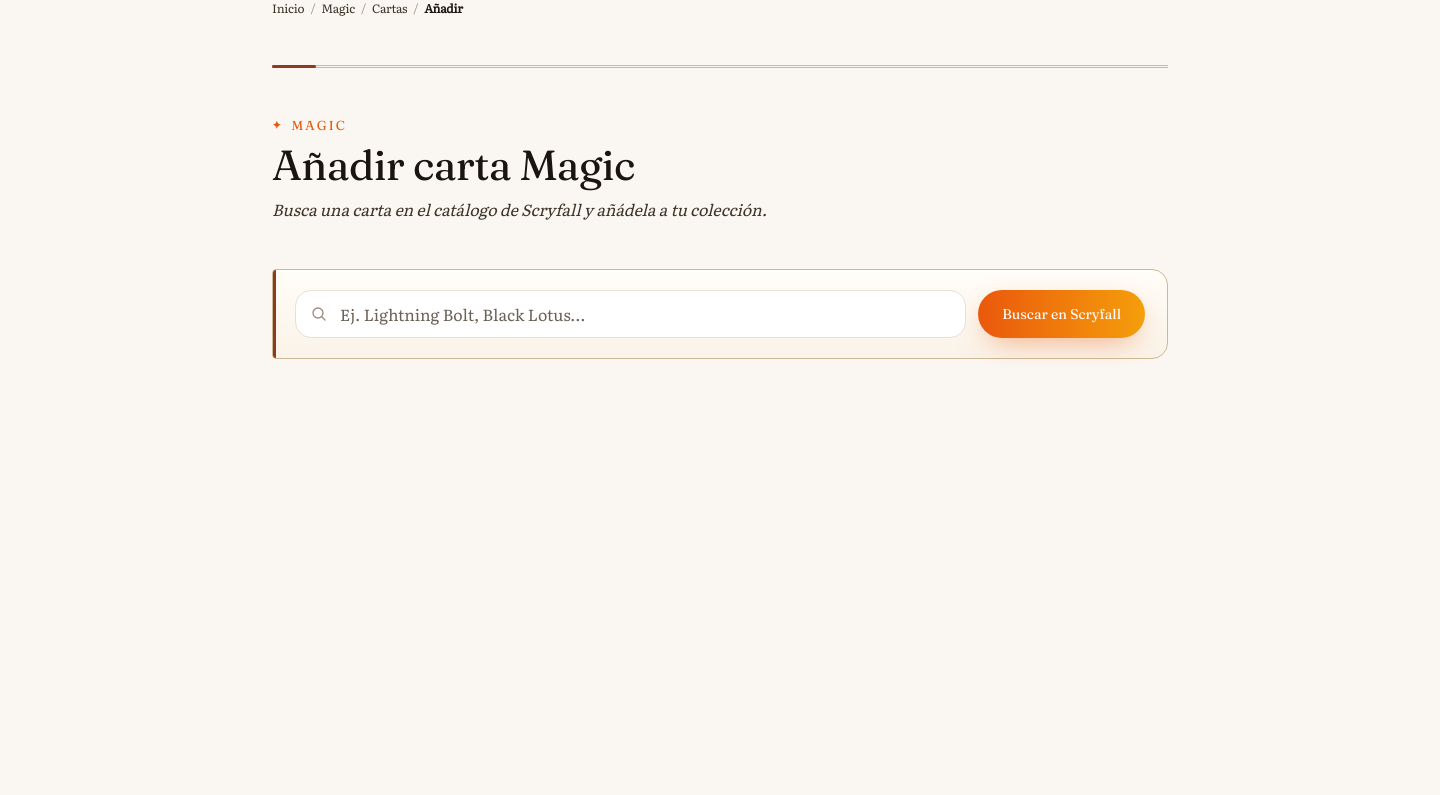
MagicCreatePage selector de impresiones › el botón «Elegir impresión» también abre el panel
Type "Plains" into the field named "Buscar carta" at (631, 314), box [295,290,966,338]
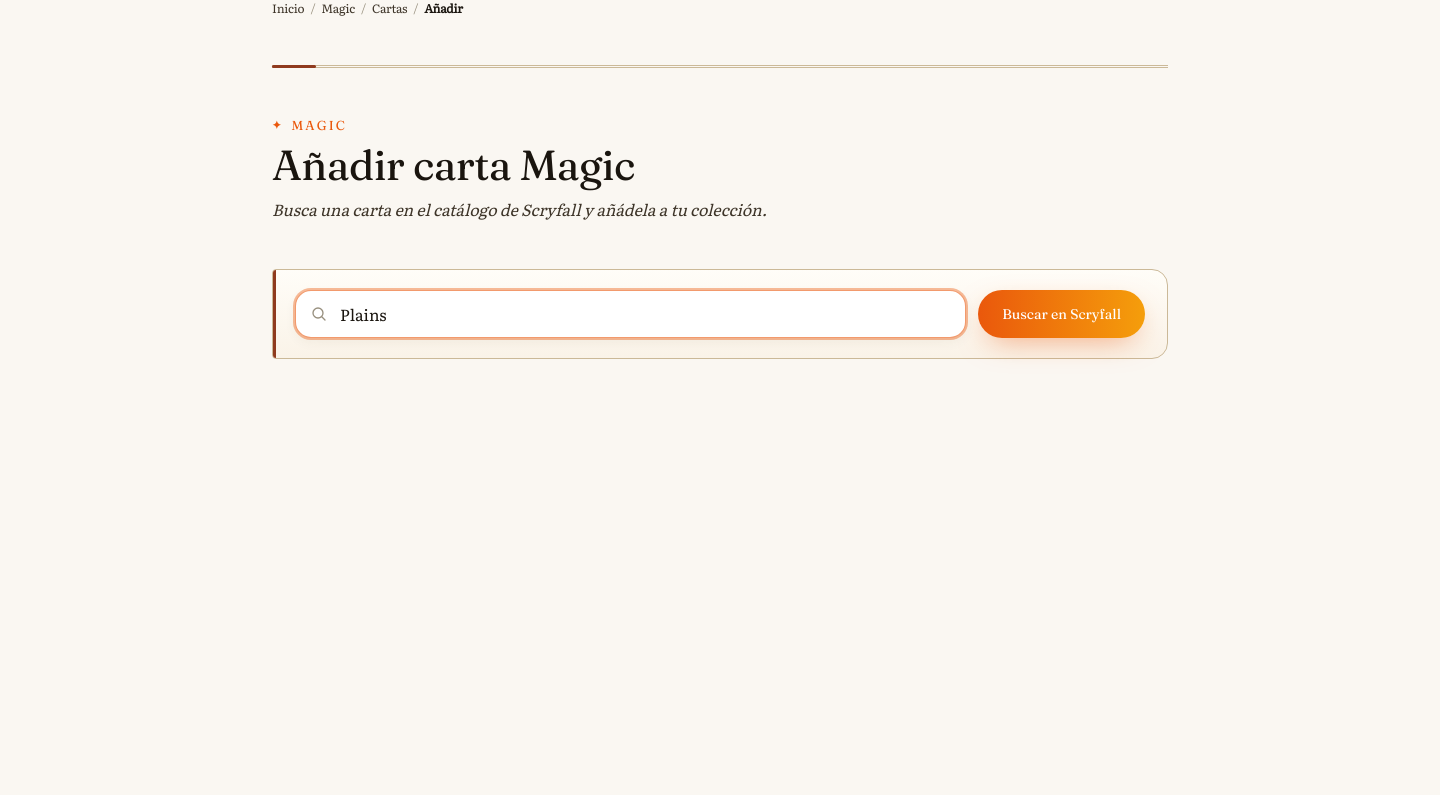
Click the button "Buscar en Scryfall" at (1062, 314), box [978,290,1145,338]
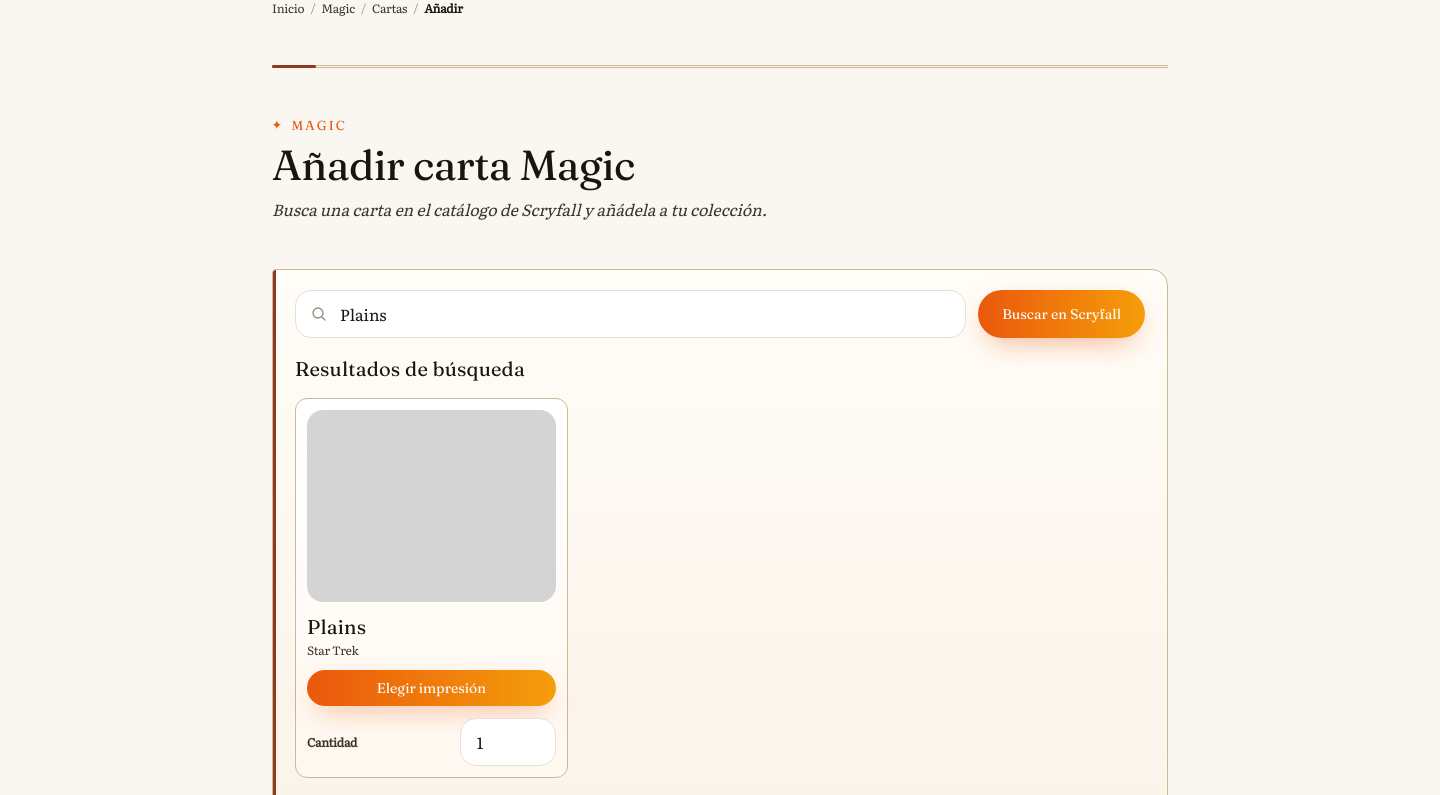
expect the heading "Plains" is shown: met, box [307,614,366,640]
Click the button with aria-label "Elegir impresión de Plains" at (431, 688), box [307,670,556,706]
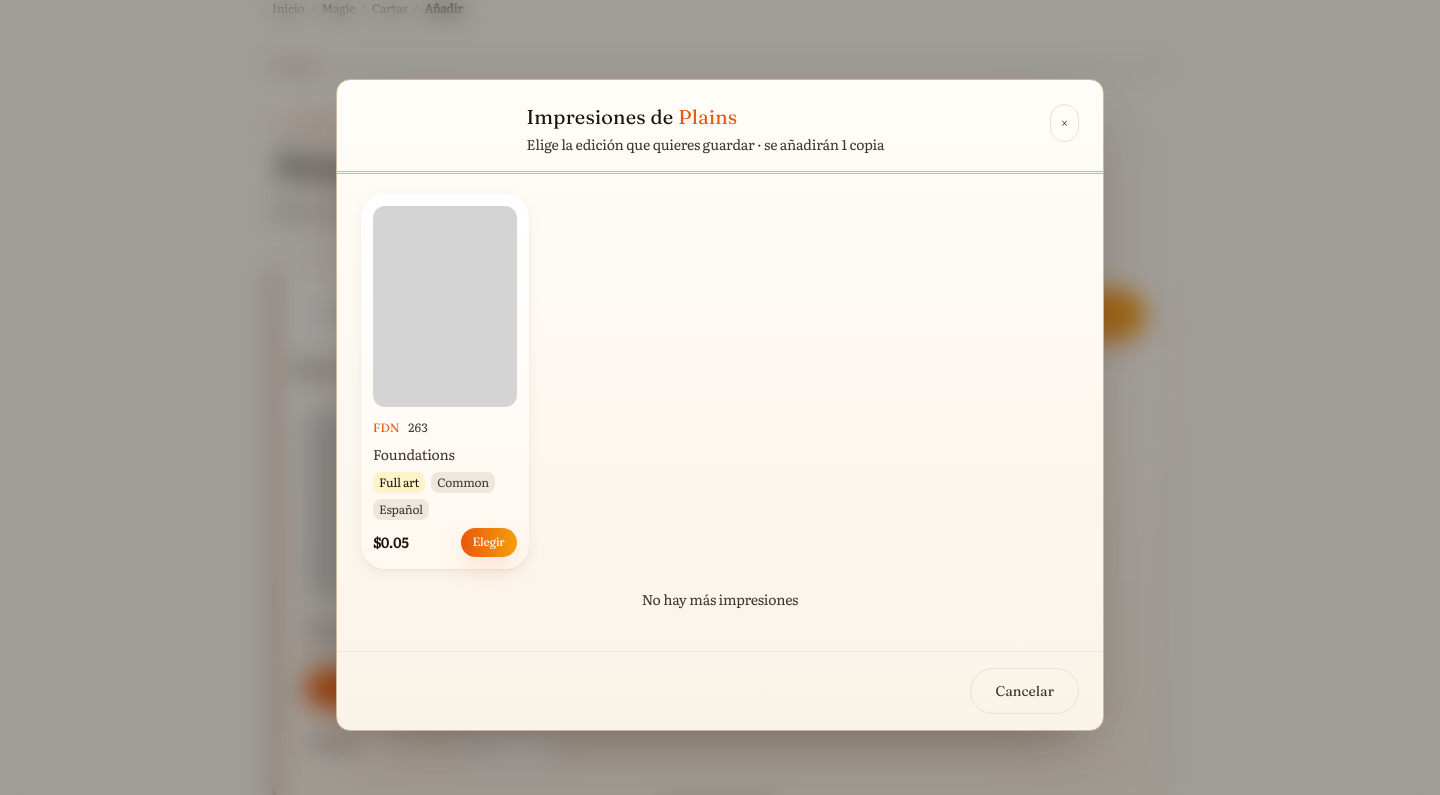
expect the dialog is shown: met, box [336,79,1104,731]
